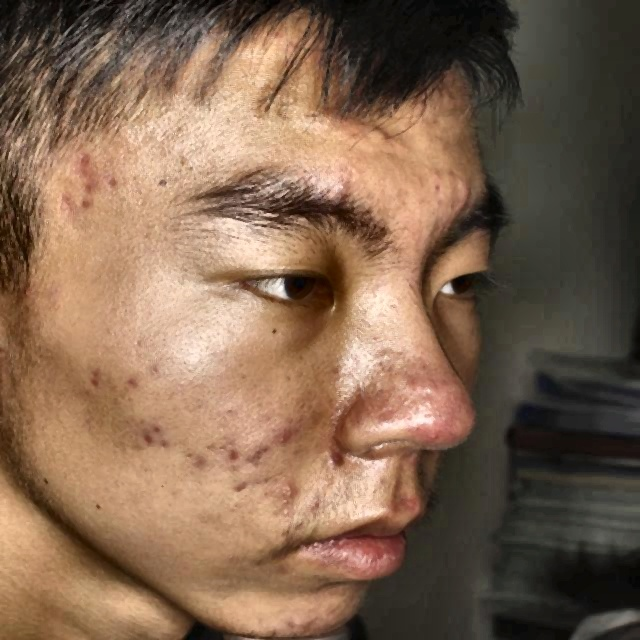pustule: (264, 474, 308, 511), (53, 186, 101, 218), (443, 171, 478, 214), (131, 417, 166, 459), (64, 147, 102, 183), (360, 119, 396, 152), (222, 439, 250, 471), (271, 424, 300, 454), (280, 608, 312, 634), (246, 441, 272, 469), (325, 178, 364, 194)
